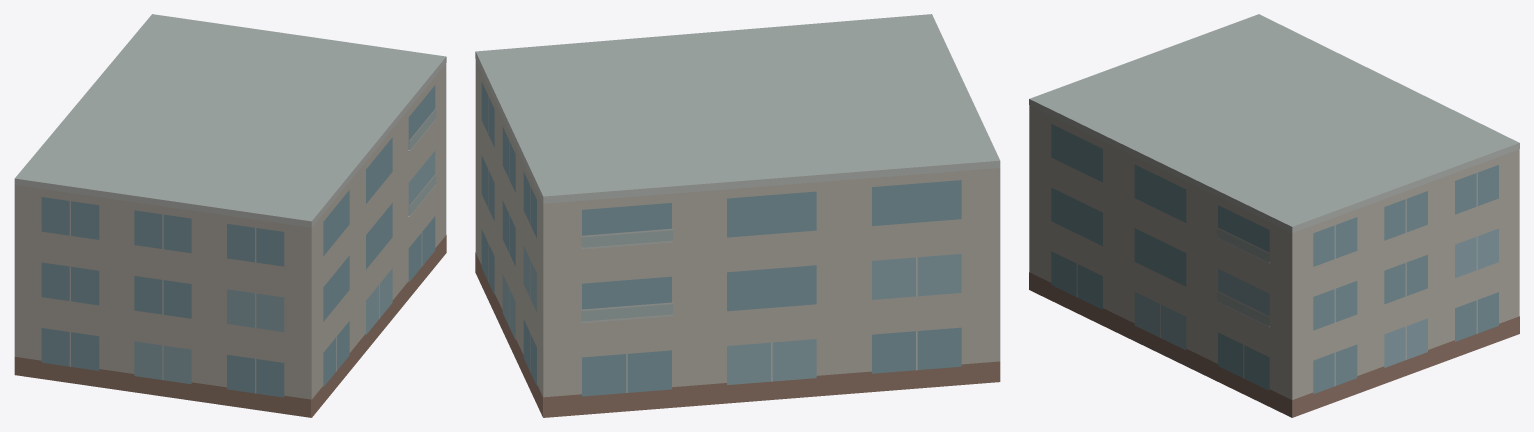
File: survey-upis-32866435.glb
3 views of the same model, side by side, from view 1: azimuth 30°, elevation 25°; view 2: azimuth 150°, elevation 25°; view 3: azimuth 270°, elevation 25° (orthographic). The views are drawn at different scales.
Parts seen in each view (by area): view 1: survey-upis-32866435.tmp; view 2: survey-upis-32866435.tmp; view 3: survey-upis-32866435.tmp.
Part boxes in pixels (left/top/right/bottom): survey-upis-32866435.tmp: left=14, top=14, right=446, bottom=417; survey-upis-32866435.tmp: left=475, top=14, right=1000, bottom=417; survey-upis-32866435.tmp: left=1029, top=14, right=1519, bottom=417.
Bounding box in the file's own units: 17.94 × 7.5 × 17.47.
